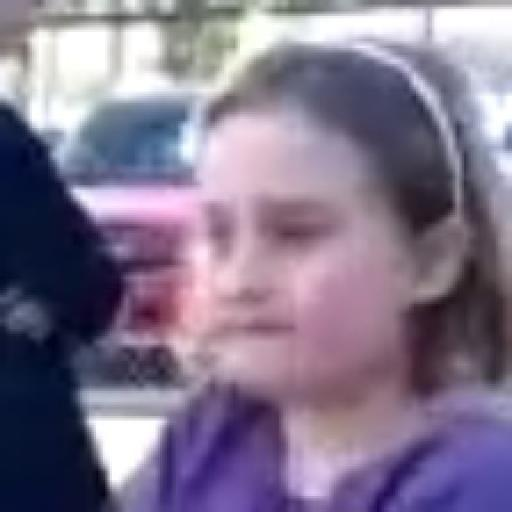Autism: (155, 10, 512, 446)
